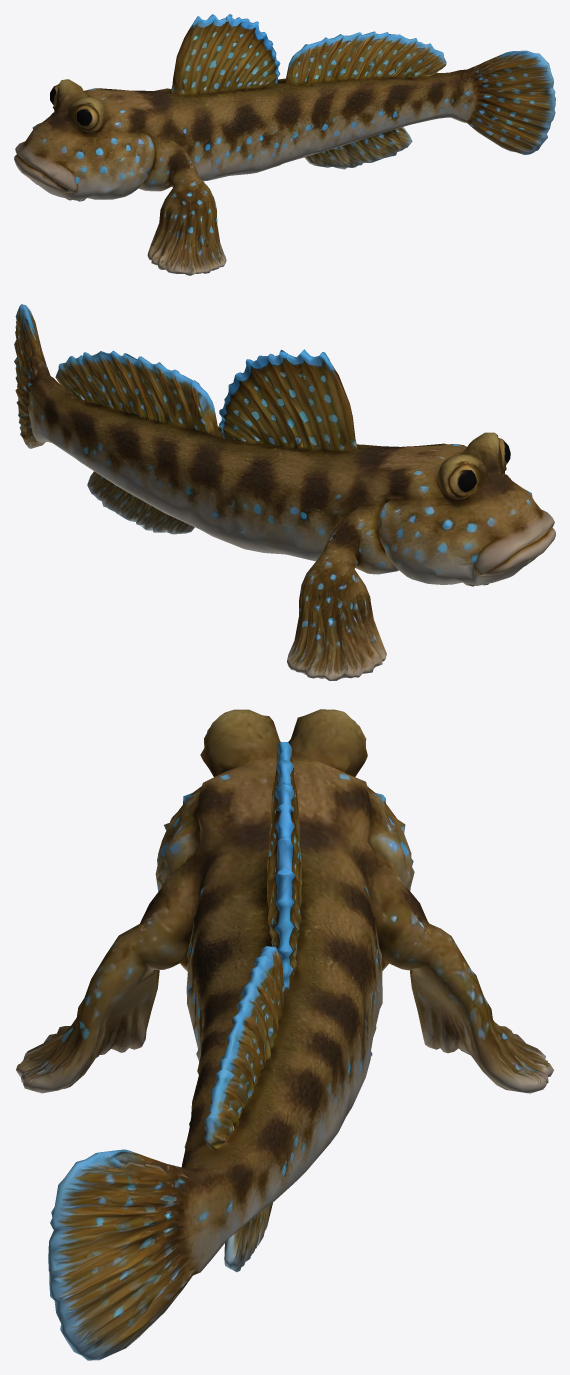
Rendered from fish-prygun.glb.
3 views of the same model, one above another, from view 1: azimuth 30°, elevation 25°; view 2: azimuth 150°, elevation 25°; view 3: azimuth 270°, elevation 25° (orthographic). The views are drawn at different scales.
Visible parts, largest first — view 1: tripo_node_3449aa78-4790-49f3-83e0-39af507b02a7; view 2: tripo_node_3449aa78-4790-49f3-83e0-39af507b02a7; view 3: tripo_node_3449aa78-4790-49f3-83e0-39af507b02a7.
Part boxes in pixels (box(x1,y1,x2,y2)): tripo_node_3449aa78-4790-49f3-83e0-39af507b02a7: box(14, 14, 555, 275); tripo_node_3449aa78-4790-49f3-83e0-39af507b02a7: box(14, 304, 555, 680); tripo_node_3449aa78-4790-49f3-83e0-39af507b02a7: box(16, 709, 553, 1360).
Bounding box in the file's own units: 1 × 0.3966 × 0.4908.
1 material, 1 textured.
